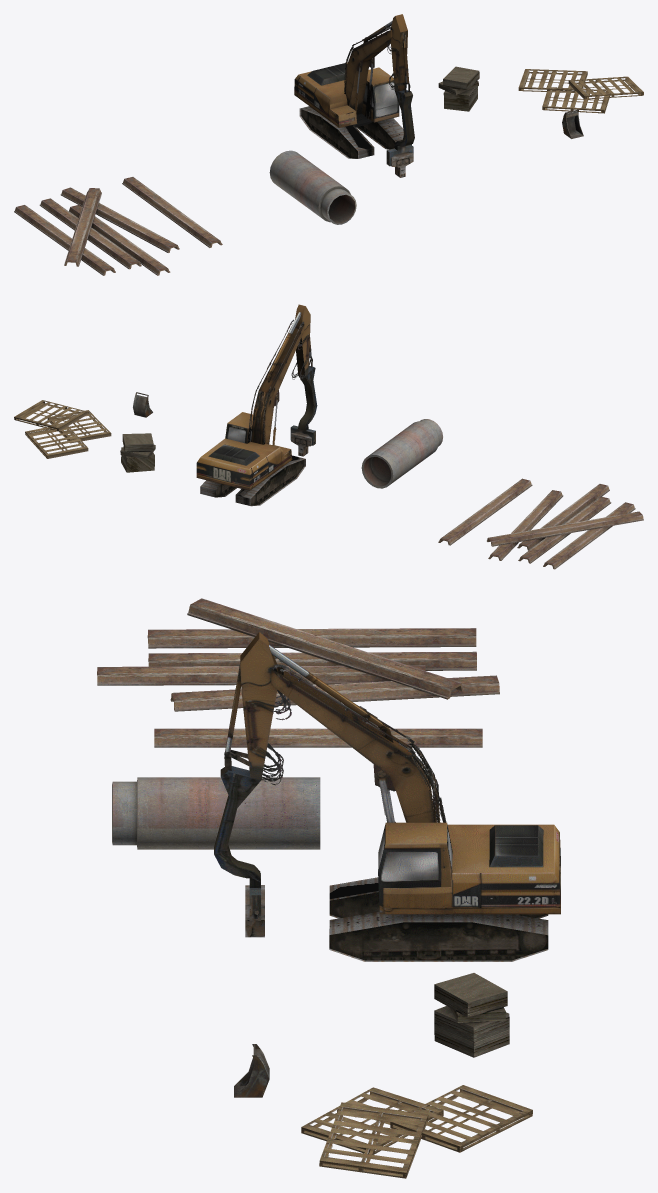
Rendered from Props.fbx.
3 views of the same model, one above another, from view 1: azimuth 30°, elevation 25°; view 2: azimuth 150°, elevation 25°; view 3: azimuth 270°, elevation 25° (orthographic). The views are drawn at different scales.
Parts seen in each view (by area): view 1: Construction.006, Construction.004, Construction.007, Construction.014, Construction.005, Wooden_Blocks, Construction.003, Construction; view 2: Construction.006, Construction.004, Construction.007, Construction.014, Construction.005, Wooden_Blocks, Construction.003; view 3: Construction.006, Construction.004, Construction.007, Construction.014, Wooden_Blocks, Construction.005, Construction.003, Construction.
Boxes of the visible parts, x1=… form: Construction.006: x1=294, y1=14, x2=414, y2=177; Construction.004: x1=14, y1=187, x2=179, y2=275; Construction.007: x1=269, y1=150, x2=356, y2=224; Construction.014: x1=518, y1=69, x2=643, y2=99; Construction.005: x1=122, y1=177, x2=222, y2=247; Wooden_Blocks: x1=438, y1=66, x2=479, y2=111; Construction.003: x1=542, y1=87, x2=609, y2=113; Construction: x1=562, y1=109, x2=583, y2=138; Construction.006: x1=196, y1=304, x2=317, y2=506; Construction.004: x1=487, y1=484, x2=643, y2=569; Construction.007: x1=361, y1=419, x2=442, y2=488; Construction.014: x1=14, y1=400, x2=88, y2=458; Construction.005: x1=438, y1=478, x2=532, y2=545; Wooden_Blocks: x1=120, y1=433, x2=155, y2=472; Construction.003: x1=47, y1=410, x2=111, y2=443; Construction.006: x1=214, y1=632, x2=560, y2=961; Construction.004: x1=97, y1=598, x2=499, y2=711; Construction.007: x1=112, y1=777, x2=320, y2=849; Construction.014: x1=319, y1=1085, x2=532, y2=1178; Wooden_Blocks: x1=434, y1=973, x2=509, y2=1057; Construction.005: x1=154, y1=728, x2=482, y2=747; Construction.003: x1=301, y1=1087, x2=443, y2=1154; Construction: x1=234, y1=1044, x2=269, y2=1097.
Bounding box in the file's own units: 3726 × 920 × 1293.
Materials: 1 (1 with a texture image).
